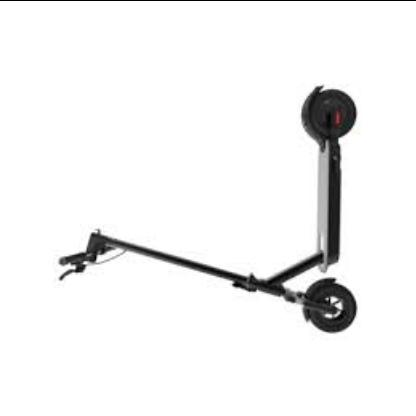bike: (58, 86, 363, 335)
